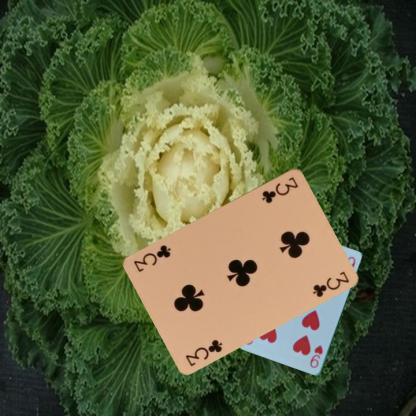3c: (183, 336, 224, 368), (259, 174, 300, 204)
9h: (308, 343, 324, 369)
